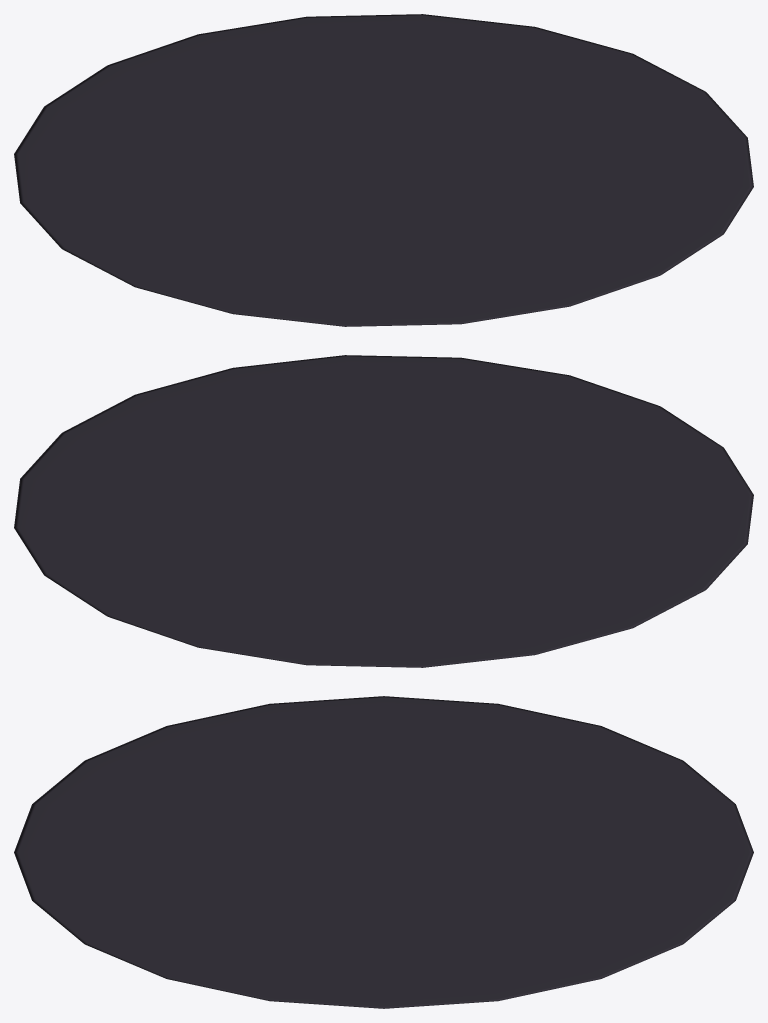
Rendered from Shadow.fbx.
The picture shows the model from 3 angles, top to bottom: view 1: azimuth 30°, elevation 25°; view 2: azimuth 150°, elevation 25°; view 3: azimuth 270°, elevation 25°; orthographic projection.
Visible parts, largest first — view 1: pSphere6; view 2: pSphere6; view 3: pSphere6.
Boxes of the visible parts, x1,y1,x2,y2 form: pSphere6: (14, 14, 753, 326); pSphere6: (14, 355, 753, 667); pSphere6: (14, 696, 753, 1008).
Bounding box in the file's own units: 0.62 × 0.00253 × 0.62.
Materials: 1 (1 with a texture image).
